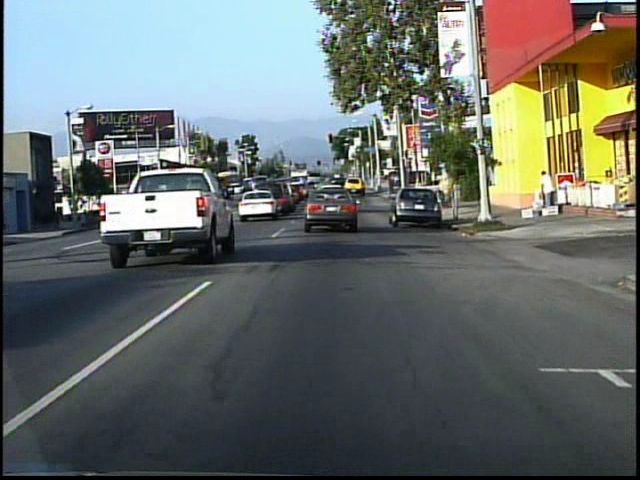person: (534, 165, 556, 209)
